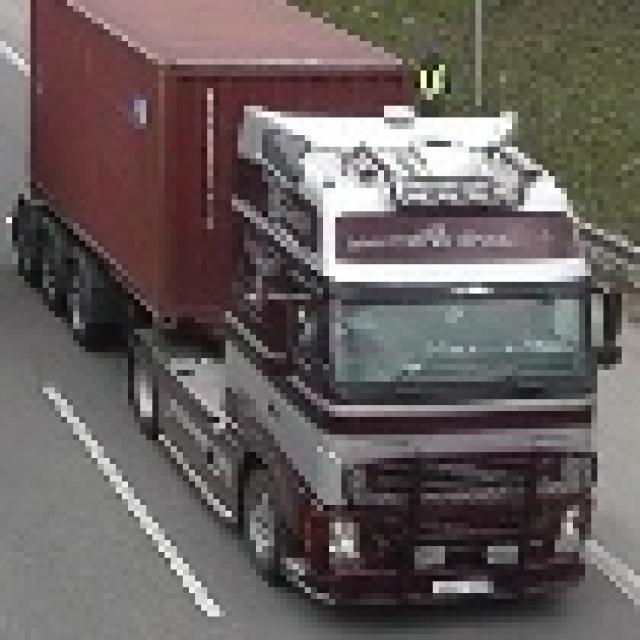TRUCK: (24, 0, 615, 628)
